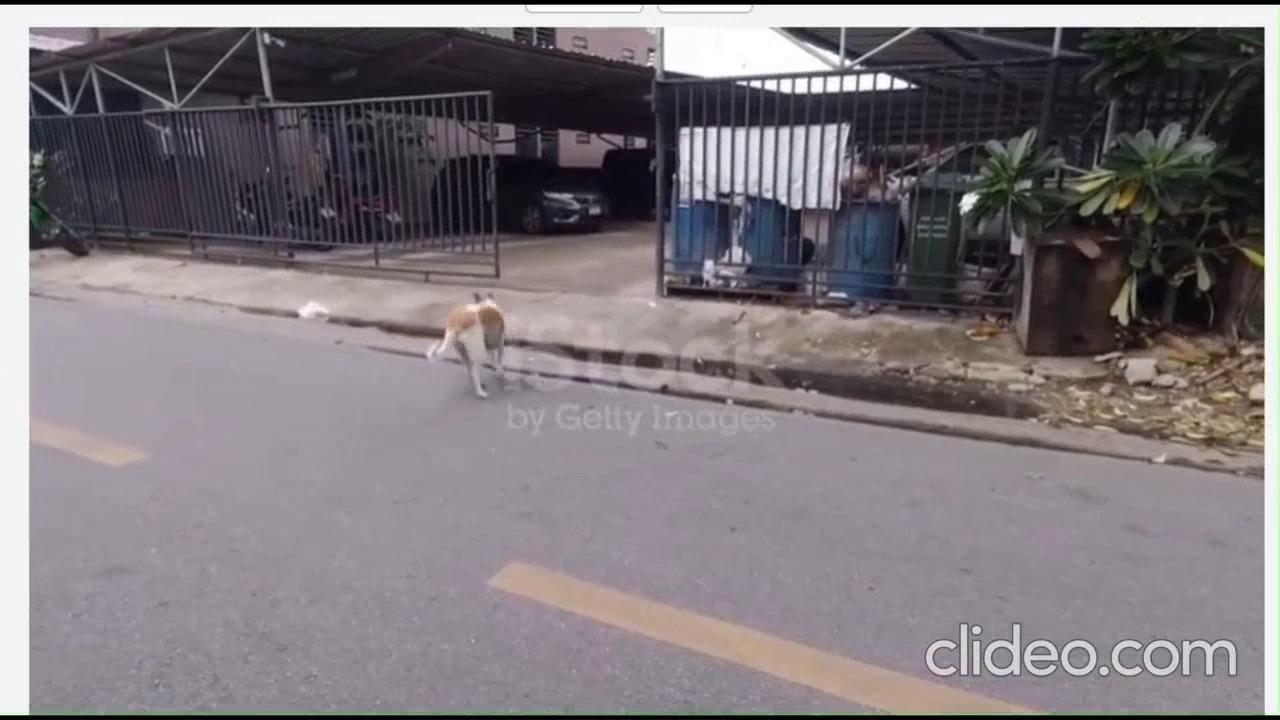dog: (423, 289, 513, 403)
